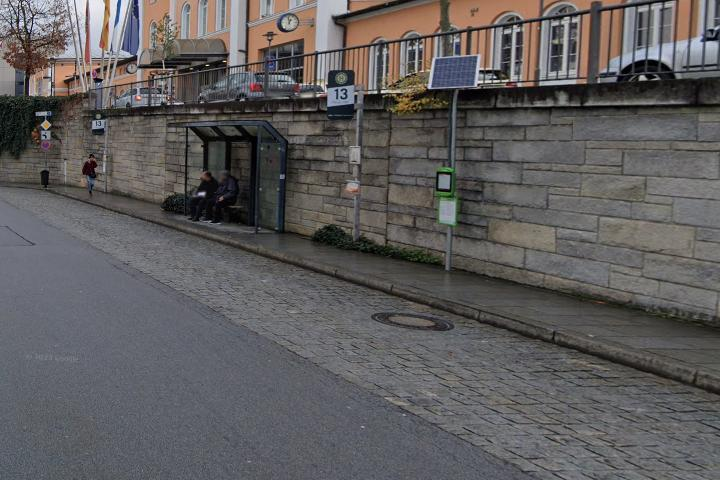traffic_sign: (41, 120, 51, 130), (41, 131, 51, 141)
vehicle: (588, 15, 720, 84), (193, 70, 305, 107), (107, 85, 173, 112)
